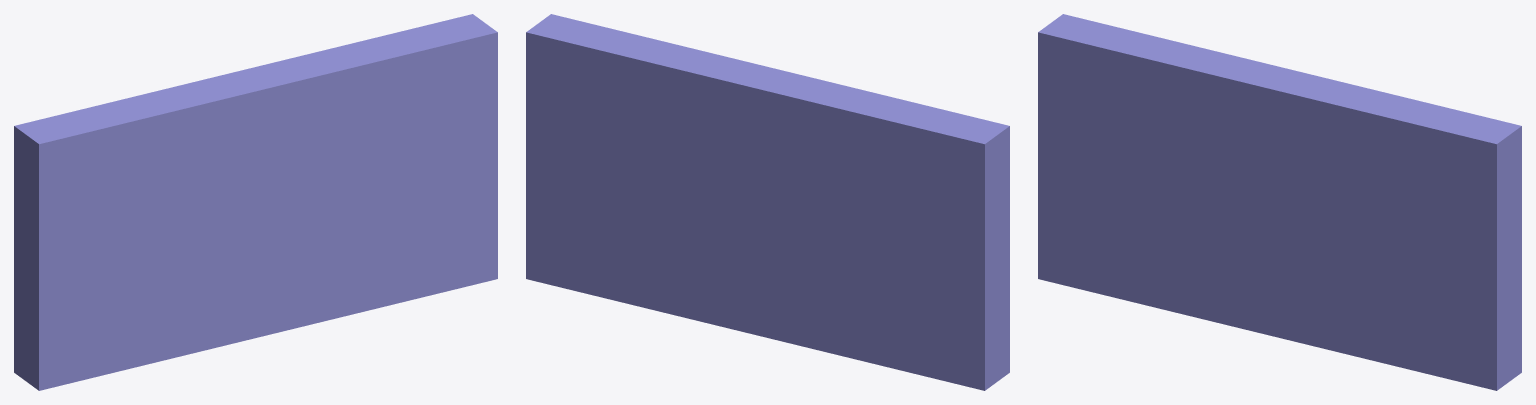
Rendered from fence_2_unbk.DAE.
3 views of the same model, side by side, from view 1: azimuth 30°, elevation 25°; view 2: azimuth 150°, elevation 25°; view 3: azimuth 330°, elevation 25° (orthographic).
Visible parts, largest first — view 1: bounds; view 2: bounds; view 3: bounds.
Part boxes in pixels (x1,y1,x2,y2): bounds: (14,14,497,390); bounds: (526,14,1009,390); bounds: (1038,14,1521,390).
Size of the model in its own units: 4.33 by 0.41 by 2.23.
